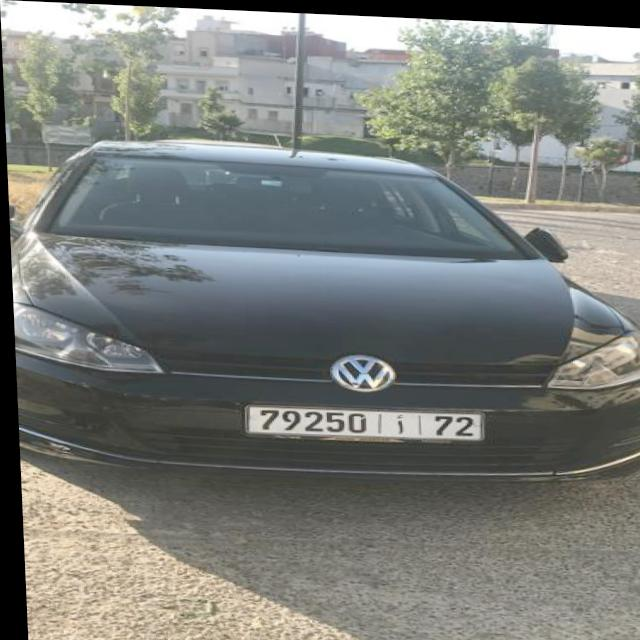License-Plate: (244, 403, 478, 436)
